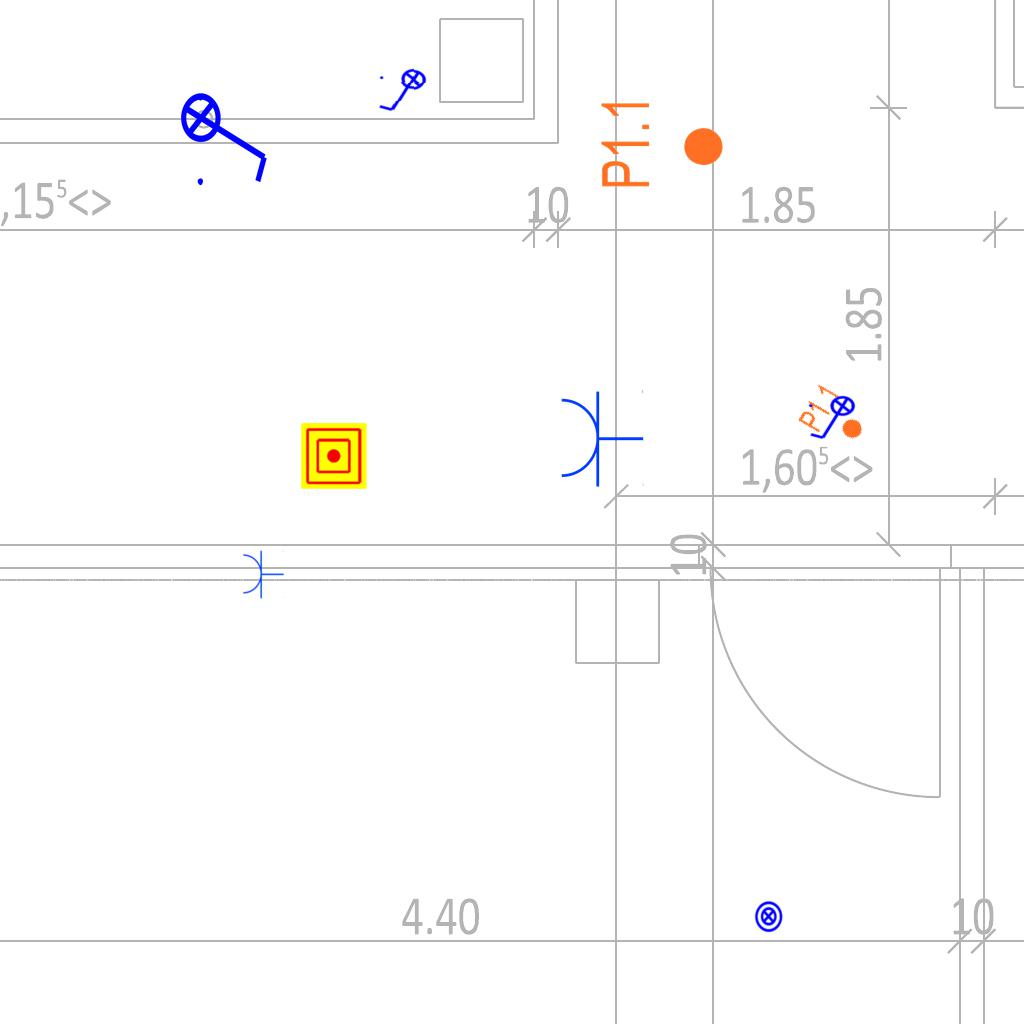Ausschalter_beleuchtet: (179, 79, 275, 191), (374, 66, 434, 118), (806, 395, 862, 443)
Downlight_LED_Einbauleuchten_Flur: (598, 97, 726, 190), (795, 381, 875, 453)
NAM-Nichtautomatischer_Melder: (301, 423, 367, 489)
Schukosteckdose_einfach: (557, 388, 644, 488), (241, 549, 284, 599)
Taster_beleuchtet: (752, 900, 785, 933)
